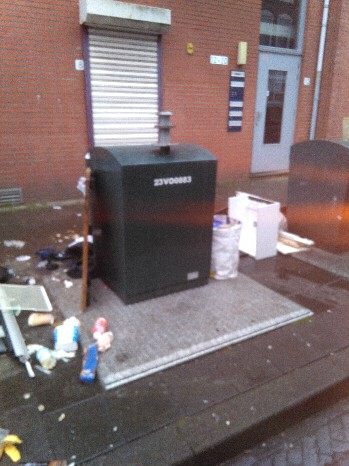Container: (99, 136, 206, 289)
Plastic: (79, 344, 115, 383), (58, 320, 86, 361), (86, 318, 113, 340)
Rest: (233, 187, 298, 263), (60, 175, 90, 301), (209, 213, 250, 281), (17, 291, 49, 357)
